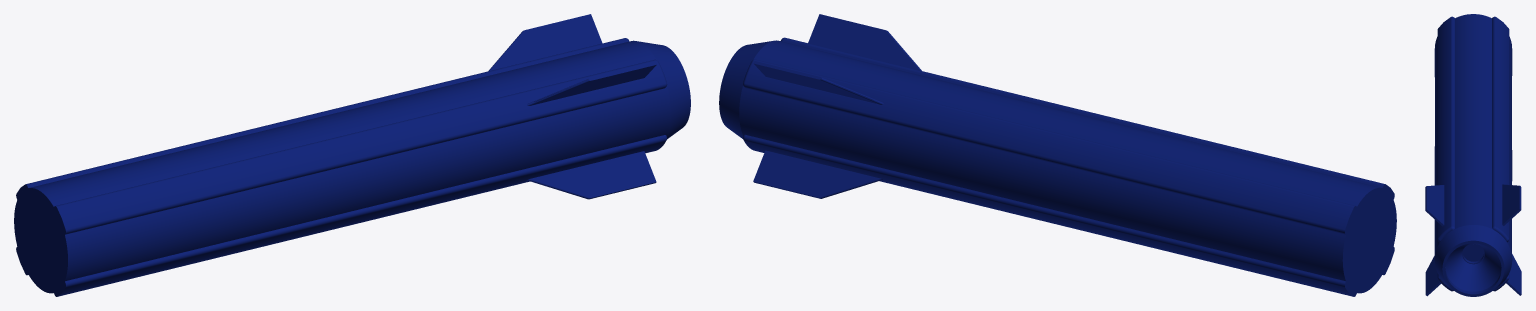
The model's file is Halberd_Booster_V1.obj.
3 renders of one model, left to right at view 1: azimuth 30°, elevation 25°; view 2: azimuth 150°, elevation 25°; view 3: azimuth 270°, elevation 25°, orthographic. The views are drawn at different scales.
Size of the model in its own units: 1.88 by 0.3489 by 0.3489.
